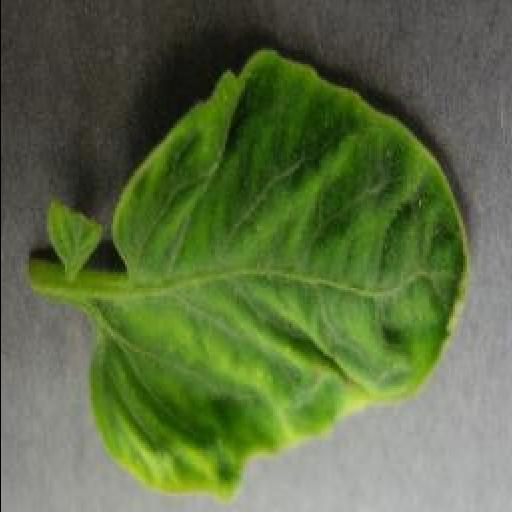disease_tomato: (86, 50, 472, 498)
